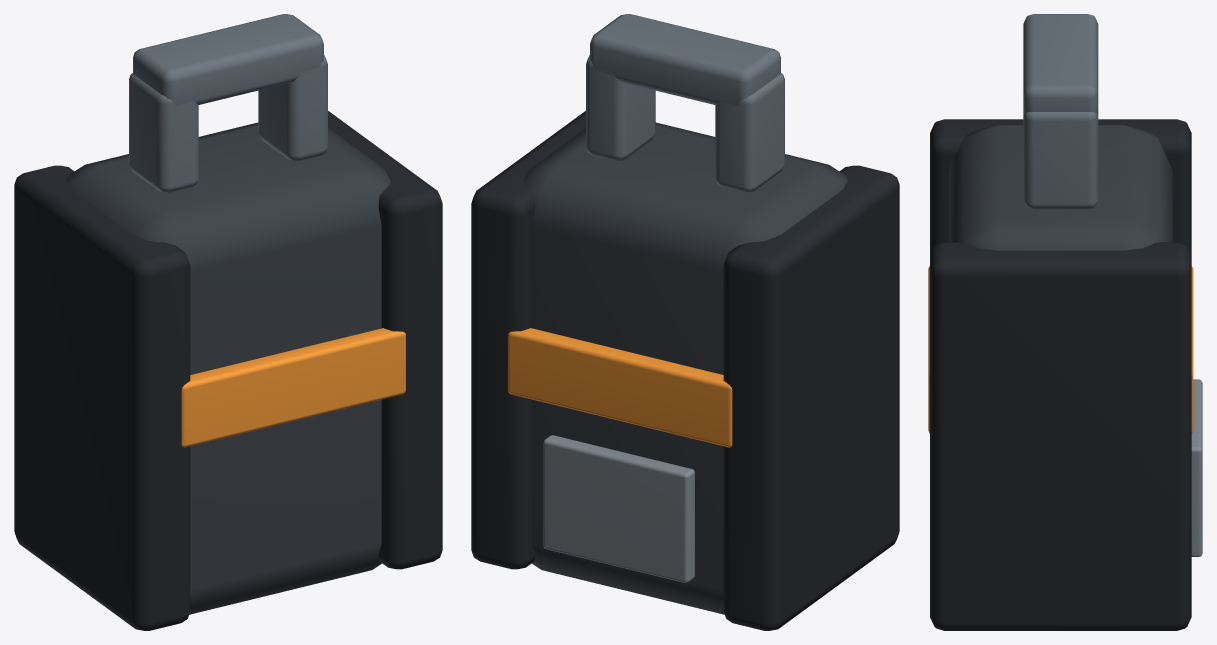
3 views of the same model, side by side, from view 1: azimuth 30°, elevation 25°; view 2: azimuth 150°, elevation 25°; view 3: azimuth 270°, elevation 25° (orthographic).
Parts seen in each view (by area): view 1: E04__Capsule_body, E04__Protective_corner, E04__Protective_corner.001, E04__Band_front, E04__Integrated_loop, E04__Loop_pillar, E04__Loop_pillar.001; view 2: E04__Protective_corner, E04__Capsule_body, E04__Protective_corner.001, E04__Rear_sealed_panel, E04__Band_back, E04__Integrated_loop, E04__Loop_pillar, E04__Loop_pillar.001; view 3: E04__Protective_corner.001, E04__Capsule_body, E04__Integrated_loop, E04__Loop_pillar.001, E04__Protective_corner, E04__Rear_sealed_panel, E04__Band_back.
Boxes of the visible parts, x1,y1,x2,y2 form: E04__Capsule_body: [66, 122, 390, 614]; E04__Protective_corner: [14, 165, 190, 630]; E04__Protective_corner.001: [328, 111, 442, 569]; E04__Band_front: [181, 328, 405, 447]; E04__Integrated_loop: [133, 14, 323, 105]; E04__Loop_pillar: [129, 73, 198, 192]; E04__Loop_pillar.001: [258, 55, 327, 160]; E04__Protective_corner: [723, 165, 899, 630]; E04__Capsule_body: [523, 122, 847, 614]; E04__Protective_corner.001: [471, 111, 585, 569]; E04__Rear_sealed_panel: [543, 435, 694, 582]; E04__Band_back: [508, 328, 732, 447]; E04__Integrated_loop: [590, 14, 780, 105]; E04__Loop_pillar: [715, 73, 784, 192]; E04__Loop_pillar.001: [586, 55, 655, 160]; E04__Protective_corner.001: [930, 242, 1191, 630]; E04__Capsule_body: [948, 124, 1172, 250]; E04__Integrated_loop: [1023, 14, 1098, 114]; E04__Loop_pillar.001: [1023, 112, 1098, 209]; E04__Protective_corner: [930, 119, 1191, 255]; E04__Rear_sealed_panel: [1191, 379, 1202, 556]; E04__Band_back: [1191, 266, 1193, 433].
Size of the model in its own units: 0.191 by 0.3125 by 0.147.
